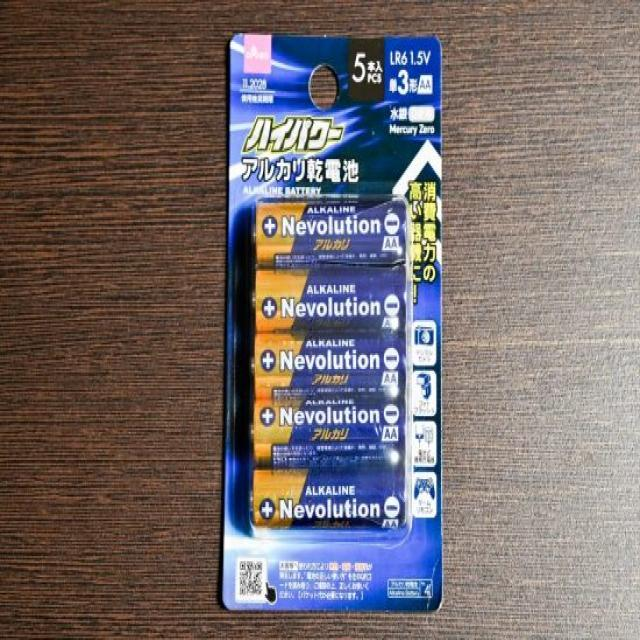hazardous waste: (248, 331, 410, 402), (252, 191, 410, 262), (250, 266, 414, 334), (249, 464, 406, 531), (248, 401, 408, 466)
